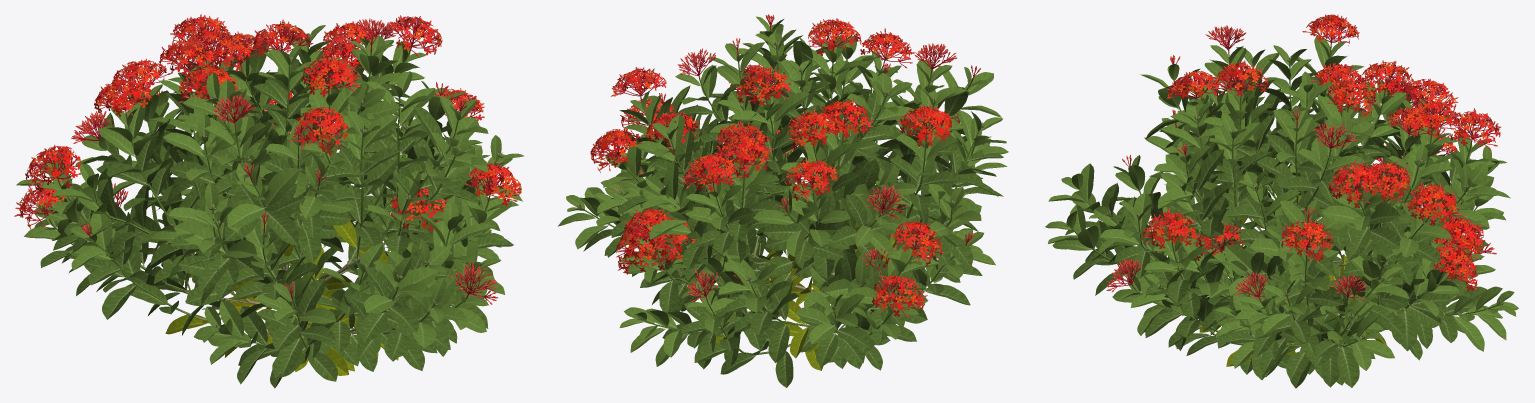
File: Ixora chinensis red HD_Standard mat 25_LOD0.fbx
3 views of the same model, side by side, from view 1: azimuth 30°, elevation 25°; view 2: azimuth 150°, elevation 25°; view 3: azimuth 270°, elevation 25° (orthographic). The views are drawn at different scales.
Parts seen in each view (by area): view 1: Ixora_chinensis_red_HD; view 2: Ixora_chinensis_red_HD; view 3: Ixora_chinensis_red_HD.
Part boxes in pixels (x1,y1,x2,y2): Ixora_chinensis_red_HD: (14, 14, 524, 388); Ixora_chinensis_red_HD: (558, 14, 1008, 387); Ixora_chinensis_red_HD: (1045, 14, 1518, 388).
Size of the model in its own units: 1.22 by 0.8614 by 1.24.
Materials: 14 (14 with a texture image).
